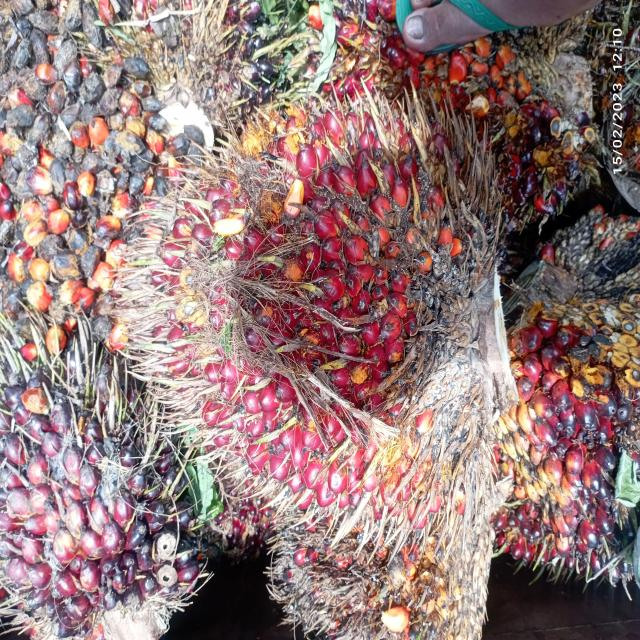fraksi 00: (0, 294, 253, 640)
fraksi 1: (476, 211, 640, 599)
fraksi 3: (129, 77, 498, 533)
